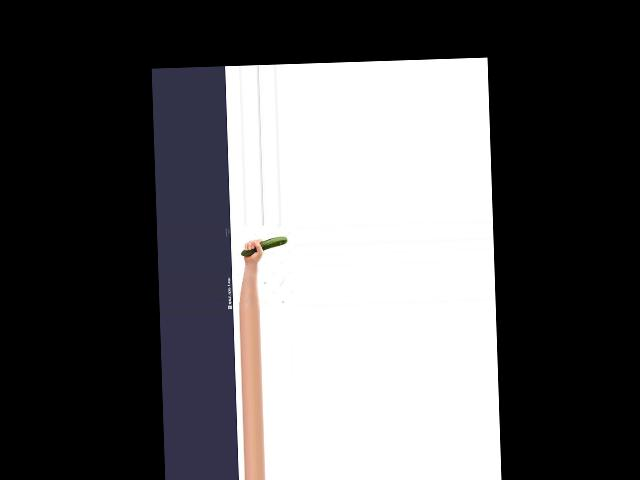cucumber: (240, 236, 287, 255)
